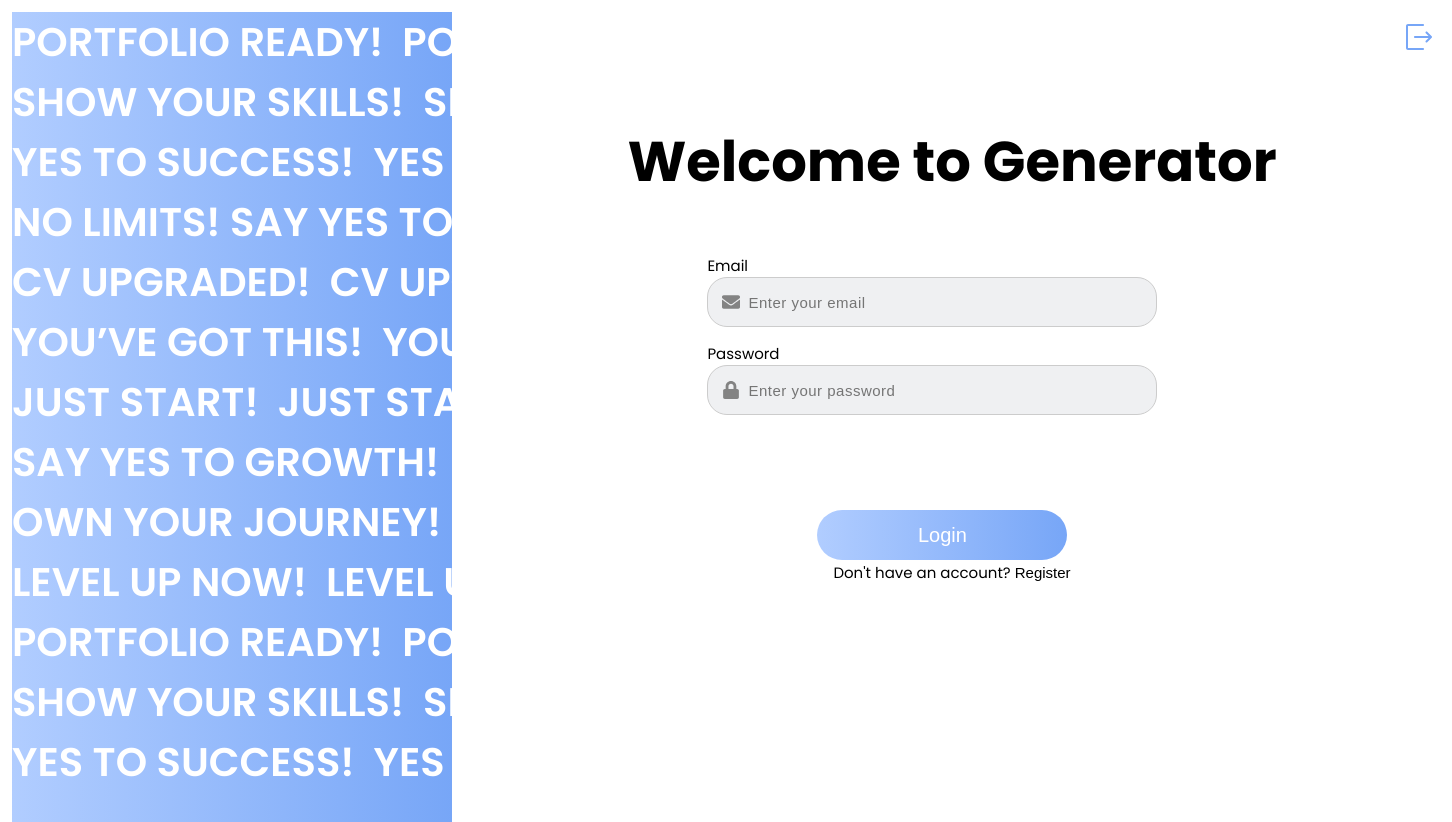
it: Компонент Login › Отображение ошибки при неправильных учетных данных
The width and height of the screenshot is (1452, 822).
# Заполняем поля и отправляем форму
Step 1. Type "wrong@example.com" into the field with placeholder "Enter your email" → (932, 302), box x1=707 y1=277 x2=1157 y2=327
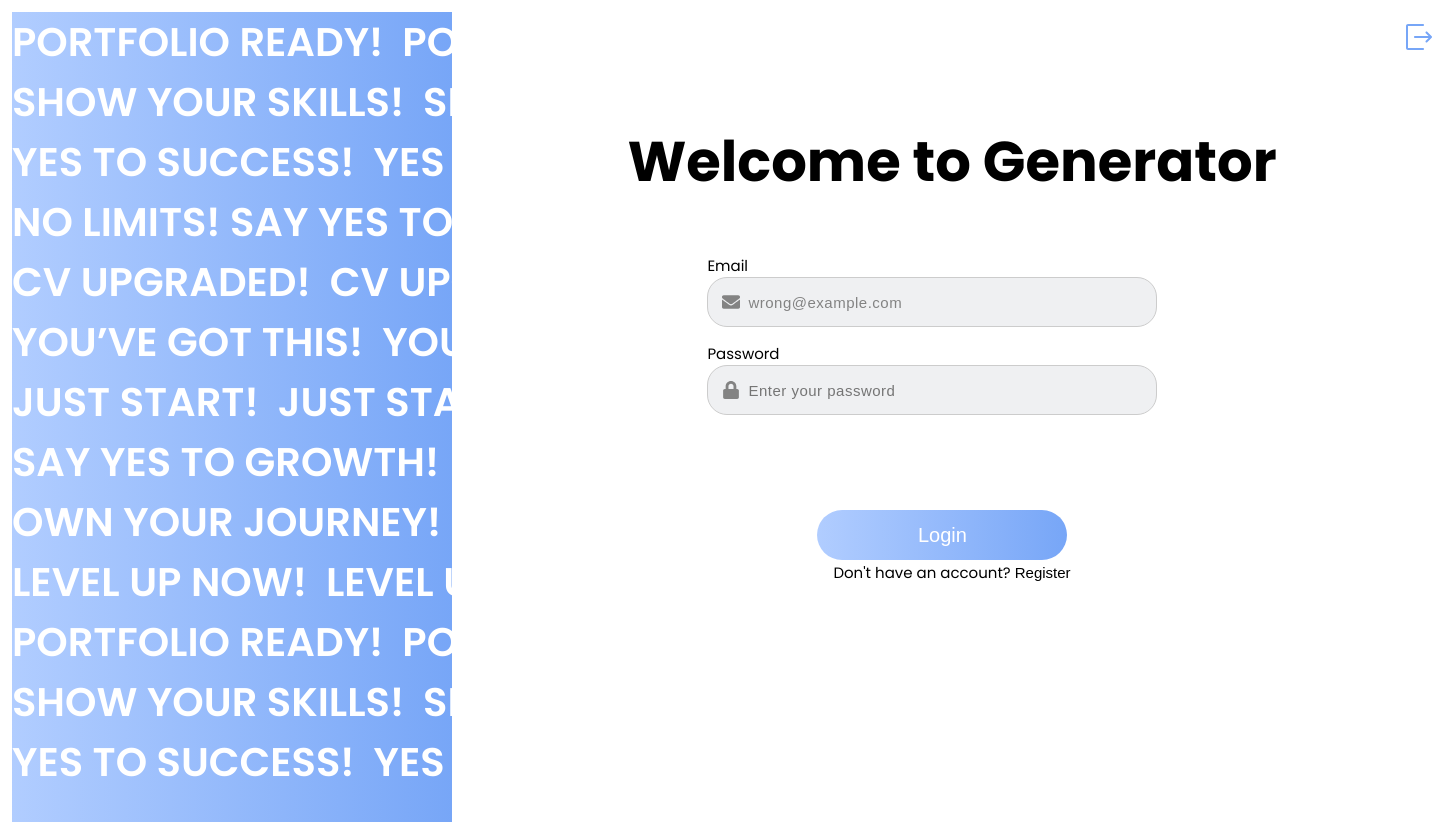
Step 2. Type "wrongpassword" into the password field with placeholder "Enter your password" → (932, 390), box x1=707 y1=365 x2=1157 y2=415
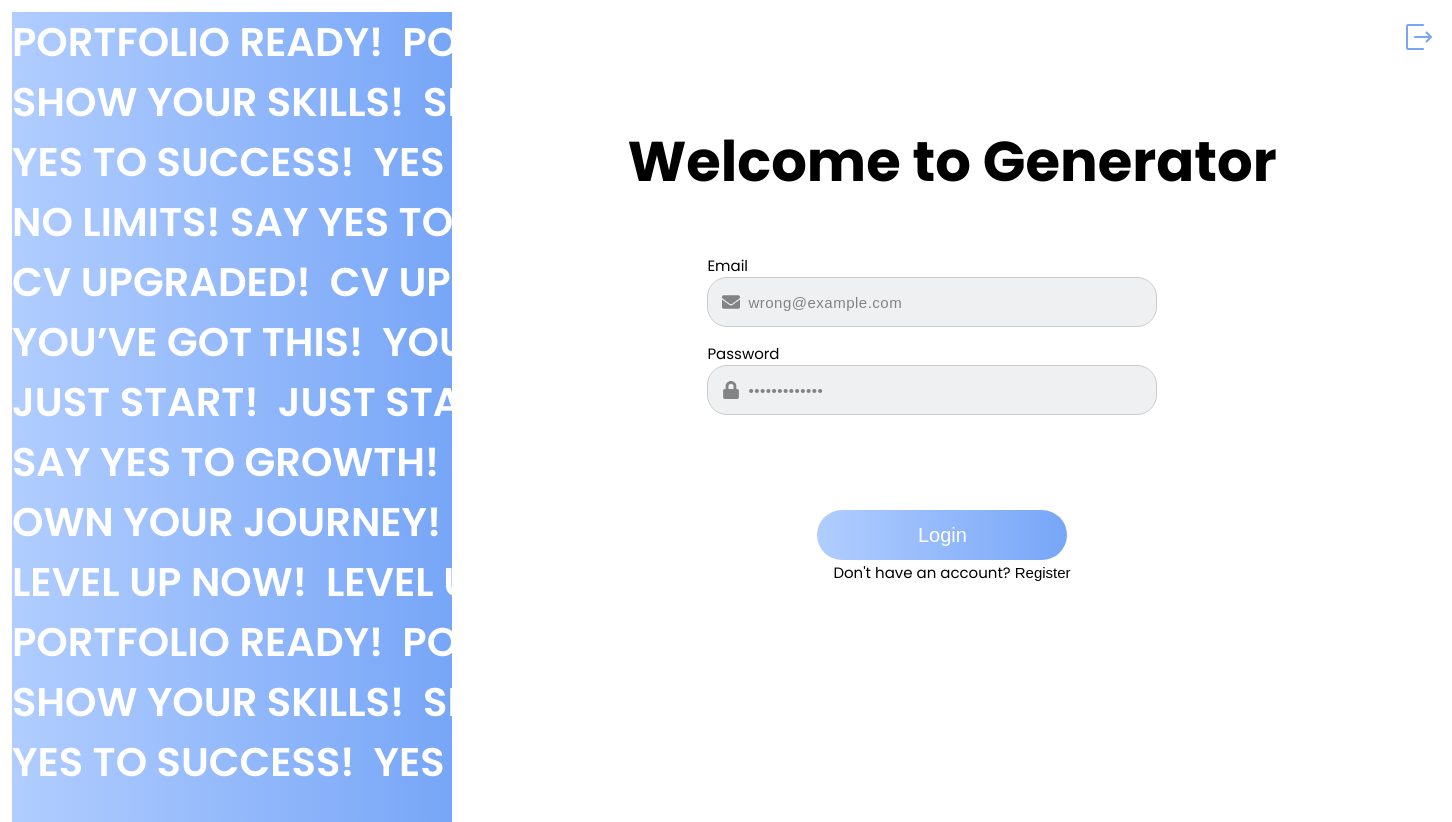
Step 3. Click the button "Login" → (942, 535), box x1=817 y1=510 x2=1067 y2=560
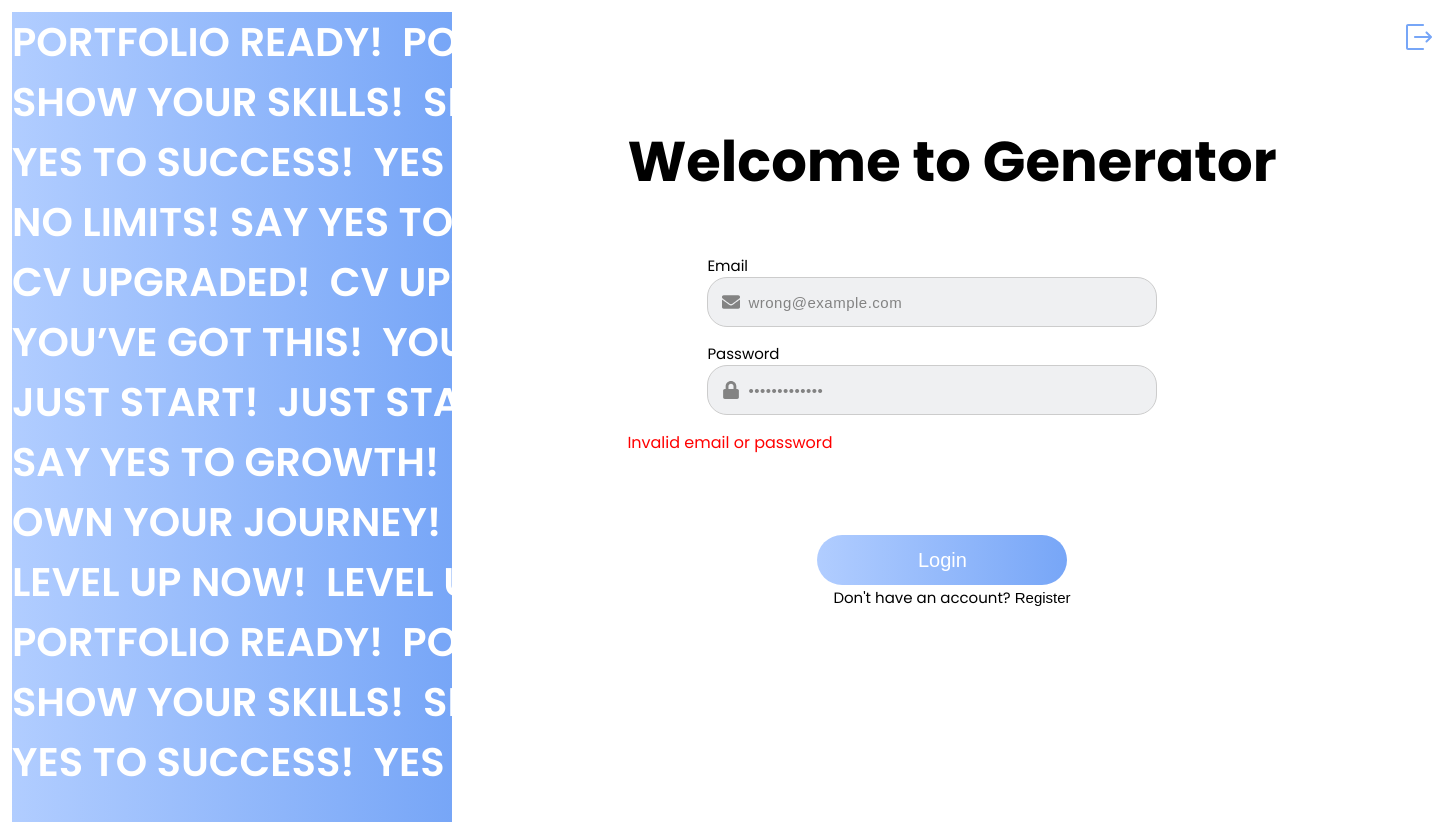
expect the text "Invalid email or password" is shown: met, box x1=627 y1=431 x2=833 y2=454
